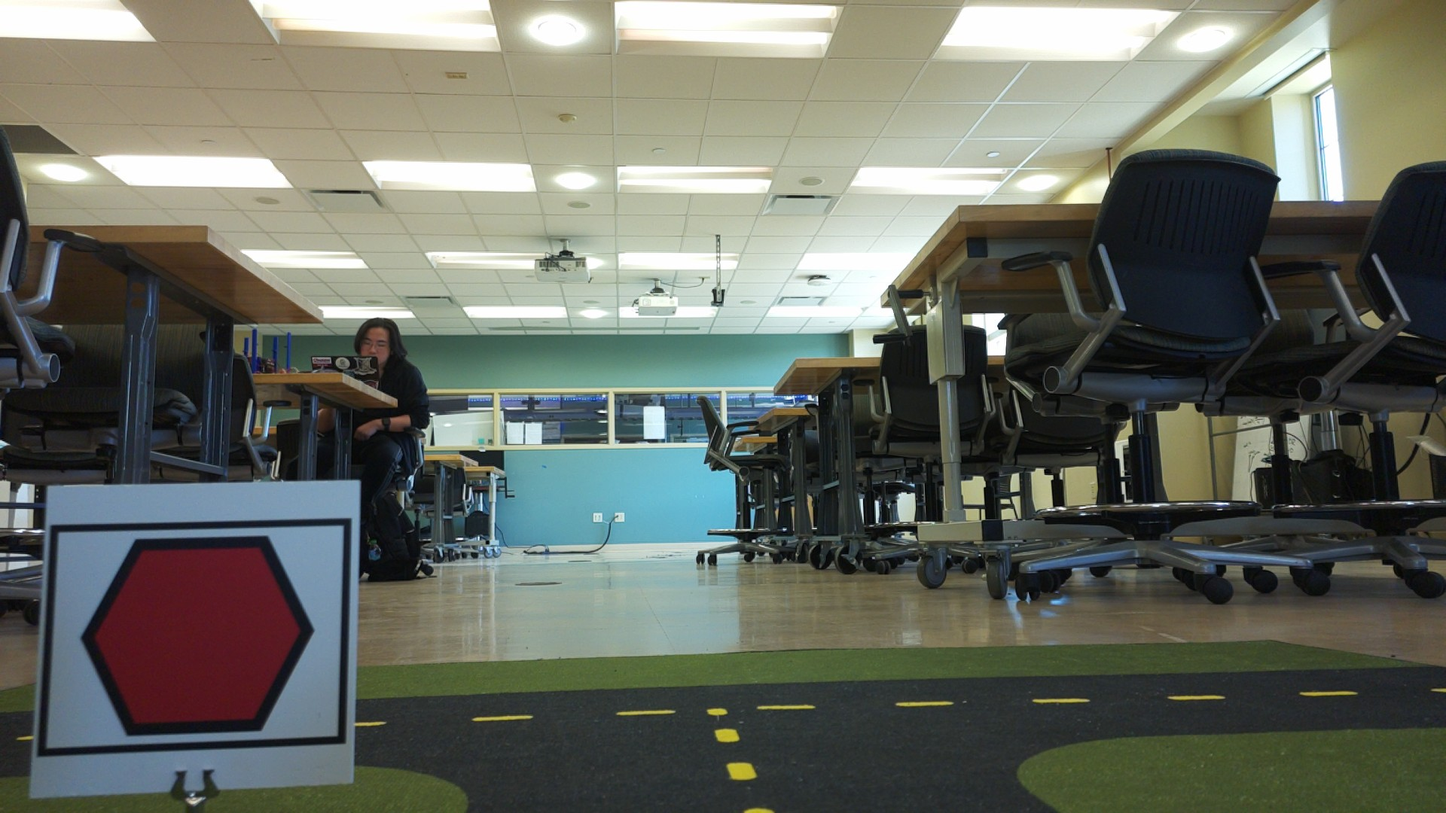stop: (60, 528, 335, 745)
yellowline: (710, 706, 754, 788)
